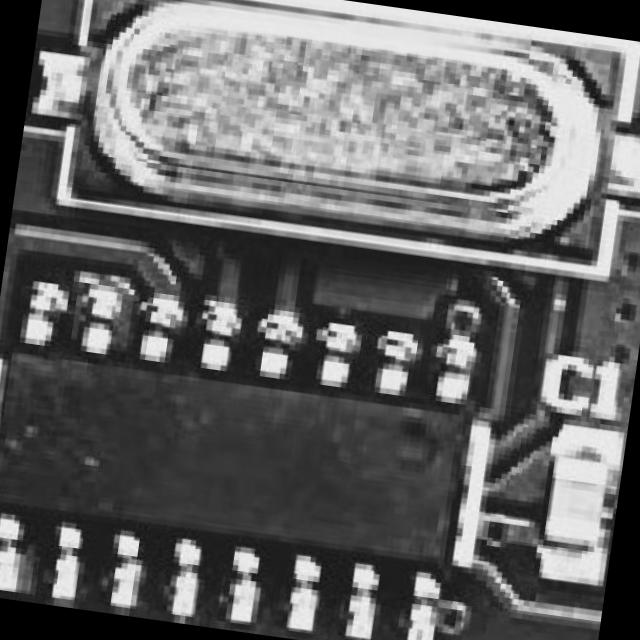IC: (0, 307, 493, 634)
capacitor: (536, 436, 618, 566)
